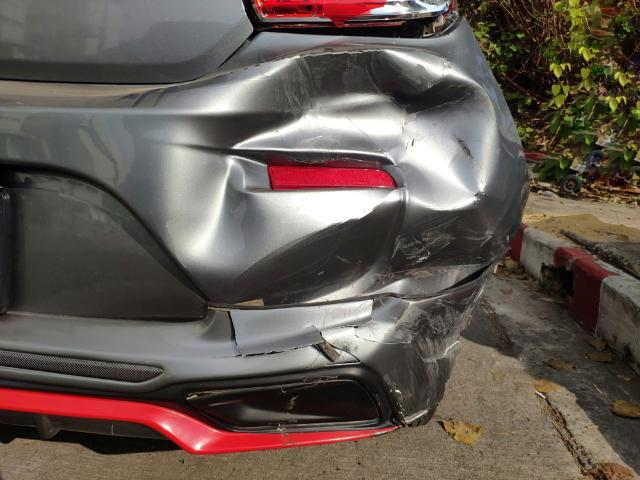crack: (208, 302, 389, 366), (438, 260, 498, 291)
dent: (161, 45, 513, 298)
lamp broken: (250, 0, 459, 37)
scratch: (389, 303, 471, 401)
